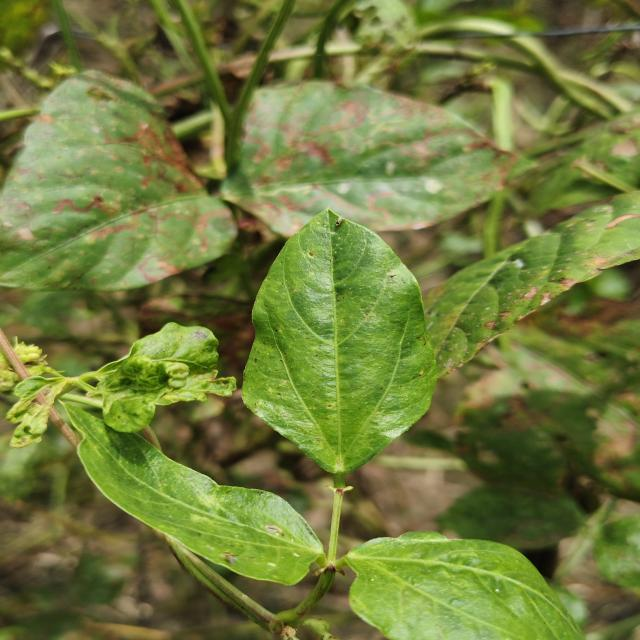leaf-low: (242, 209, 438, 488), (63, 402, 324, 585), (0, 323, 236, 449), (341, 532, 582, 640)
sitaw-aphid-high: (424, 191, 640, 378)
sitaw-aphid-low: (2, 70, 237, 291), (221, 80, 516, 237), (438, 390, 638, 547)
